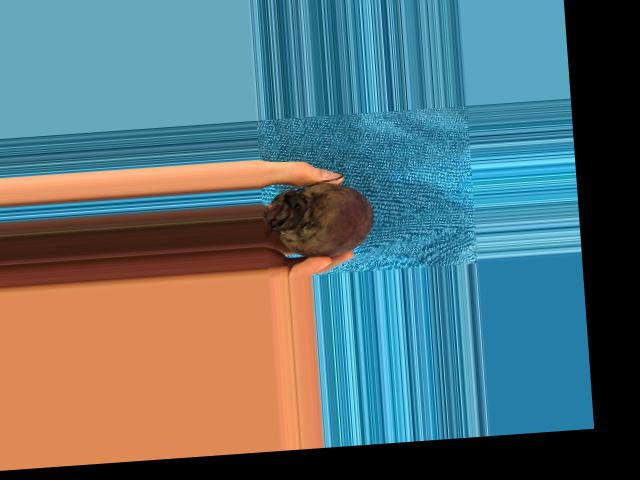beet: (262, 170, 376, 260)
